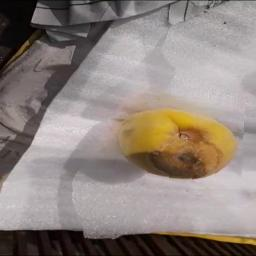Peach Rotten: (116, 95, 245, 189)
